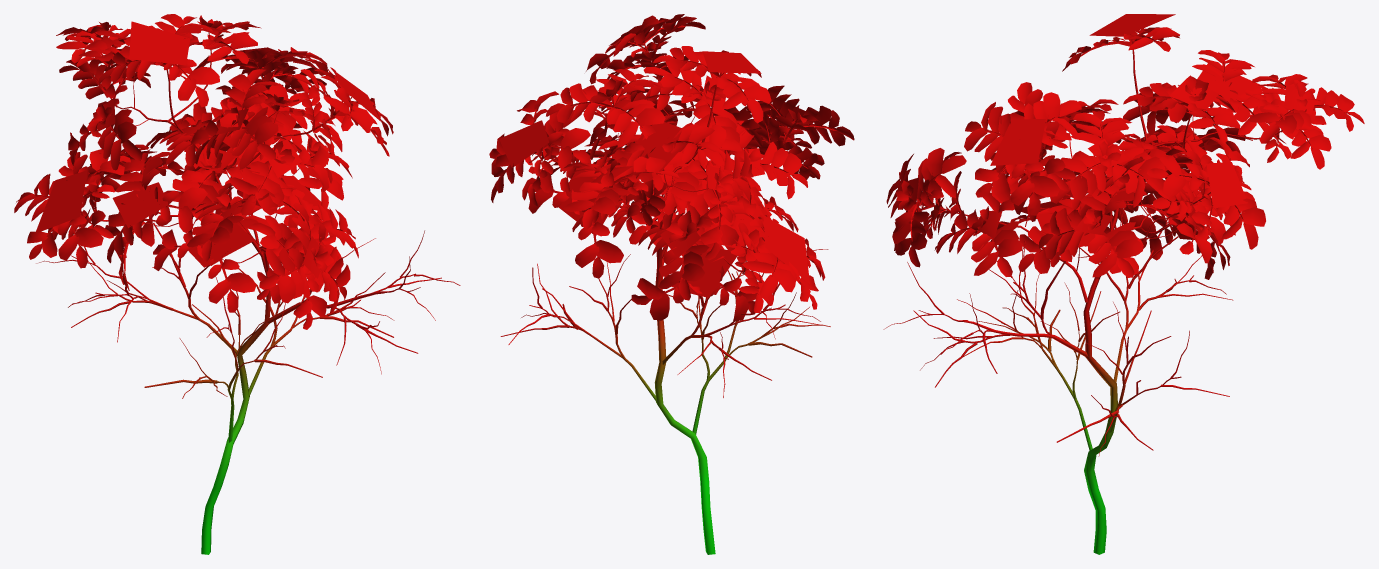
The model's file is Rose Hip_LOD2_Var8.fbx.
3 views of the same model, side by side, from view 1: azimuth 30°, elevation 25°; view 2: azimuth 150°, elevation 25°; view 3: azimuth 270°, elevation 25° (orthographic).
Visible parts, largest first — view 1: _pmnz_Var8_LOD2; view 2: _pmnz_Var8_LOD2; view 3: _pmnz_Var8_LOD2.
Part boxes in pixels (box(x1,y1,x2,y2)): _pmnz_Var8_LOD2: box(14, 14, 460, 554); _pmnz_Var8_LOD2: box(489, 14, 854, 554); _pmnz_Var8_LOD2: box(883, 14, 1364, 554).
Size of the model in its own units: 74.43 by 111 by 92.96.
